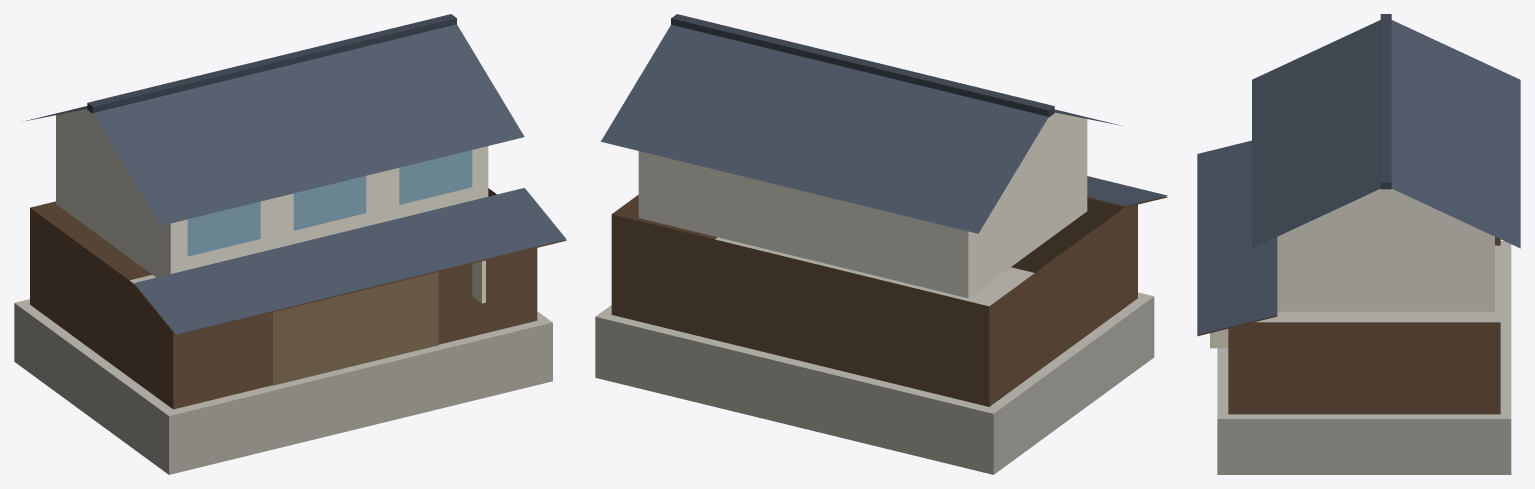
The model's file is house4.glb.
The picture shows the model from 3 angles, left to right: view 1: azimuth 30°, elevation 25°; view 2: azimuth 150°, elevation 25°; view 3: azimuth 270°, elevation 25°; orthographic projection. The views are drawn at different scales.
Parts seen in each view (by area): view 1: house4; view 2: house4; view 3: house4.
Part boxes in pixels (bbox=[...]): house4: bbox=[14, 14, 566, 474]; house4: bbox=[595, 14, 1167, 474]; house4: bbox=[1197, 14, 1520, 474].
Bounding box in the file's own units: 11.8 × 8.74 × 8.9.
